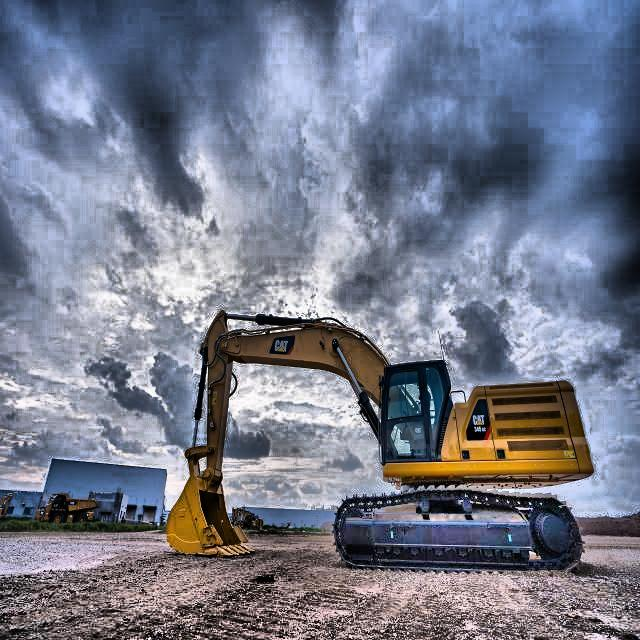excavator: (162, 310, 598, 575)
